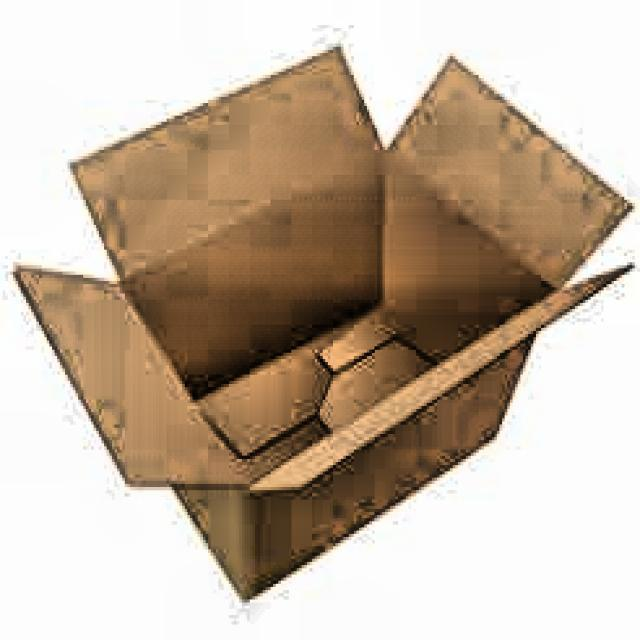cardboard: (10, 41, 635, 600)
